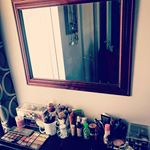cups: (37, 121, 60, 138)
